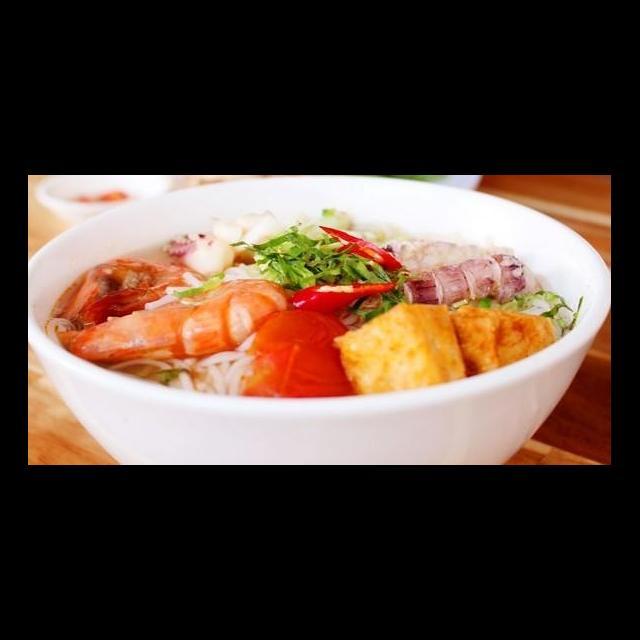bun: (102, 326, 266, 402)
bun hai san: (41, 198, 612, 463)
dau hu: (326, 297, 471, 403), (446, 303, 558, 383)
tom: (54, 273, 298, 380)
tom tit: (368, 233, 532, 312)
